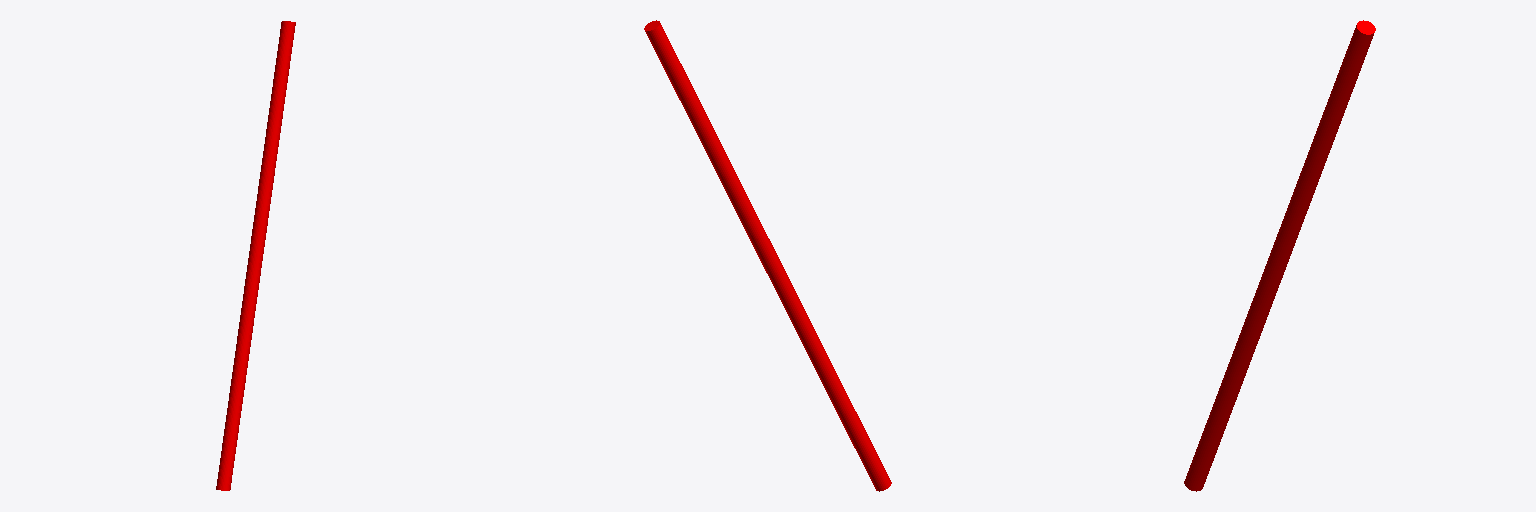
URDF robot description (tree_40.urdf):
<?xml version='1.0' encoding='utf-8'?>
<robot name="tree_40.urdf">
  <link name="branch_0">
    <inertial>
      <origin xyz="0.0 0.0 0.0" rpy="0.0 -0.0 0.0" />
      <mass value="1.0" />
      <inertia ixx="1.0" ixy="0.0" ixz="0.0" iyy="1.0" iyz="0.0" izz="1.0" />
    </inertial>
    <visual name="branch_0_visual">
      <geometry>
        <cylinder radius="0.04399131715761246" length="2.8993886054328164" />
      </geometry>
      <material name="semantic_material" />
      <origin xyz="0.45169515011586503 0.3804143622622507 1.3239599599968364" rpy="0.0 0.41955973385149853 0.699944031314065" />
    </visual>
    <collision name="branch_0_collision">
      <geometry>
        <cylinder radius="0.04399131715761246" length="2.8993886054328164" />
      </geometry>
      <origin xyz="0.45169515011586503 0.3804143622622507 1.3239599599968364" rpy="0.0 0.41955973385149853 0.699944031314065" />
    </collision>
  </link>
  <material name="semantic_material">
    <color rgba="1. 0. 0. 1." />
  </material>
</robot>

--- What the picture shows (computed from the rendered views, not written in the file) ---
3 views of the same robot in one strip: view 1: azimuth 30°, elevation 25°; view 2: azimuth 150°, elevation 25°; view 3: azimuth 270°, elevation 25° (orthographic).
Robot: tree_40.urdf — 1 links, 0 joints (none); root link branch_0; default pose: all joints at 0.
Links seen in each view (by area): view 1: branch_0; view 2: branch_0; view 3: branch_0.
Boxes of the visible links, x1=… form: branch_0: x1=216, y1=21, x2=295, y2=490; branch_0: x1=644, y1=20, x2=891, y2=491; branch_0: x1=1184, y1=20, x2=1375, y2=491.
Bounding box of the posed robot: 0.9869 × 0.8455 × 2.68 m (x, y, z).
Geometry: primitives only (box / cylinder / sphere), no mesh files.
